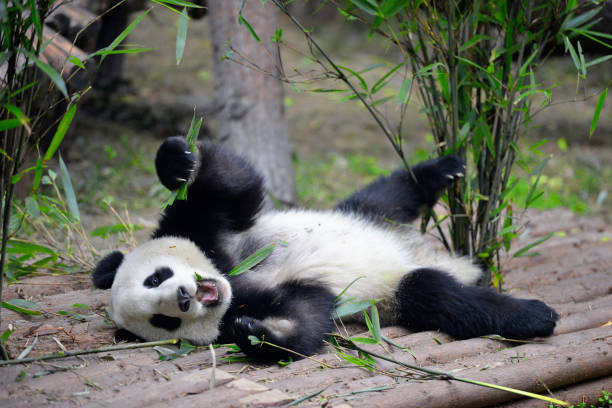panda: (82, 235, 251, 381)
